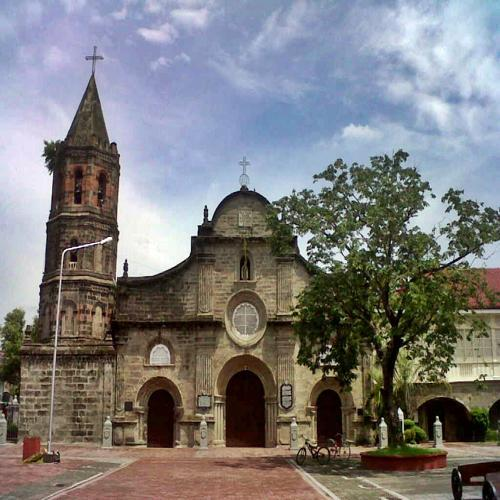Barasoain Church: (12, 43, 373, 458)
